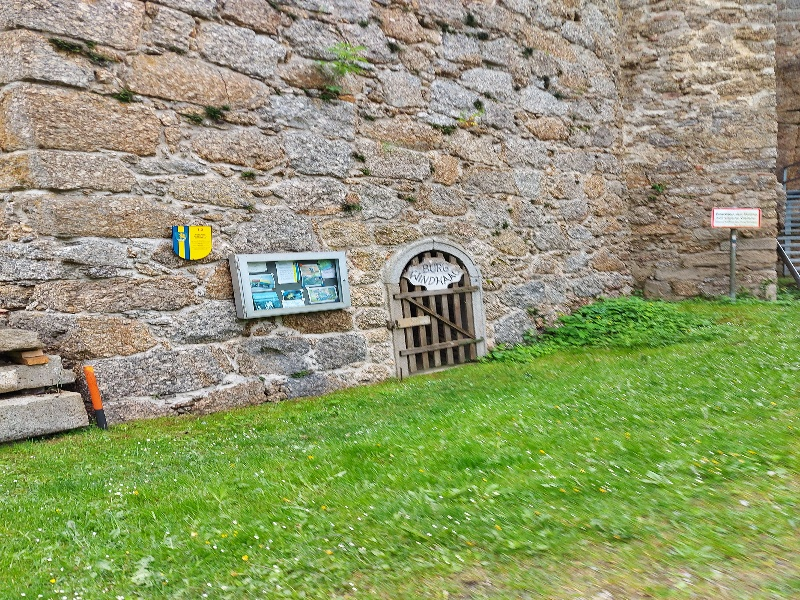dungeon: (374, 235, 506, 379)
